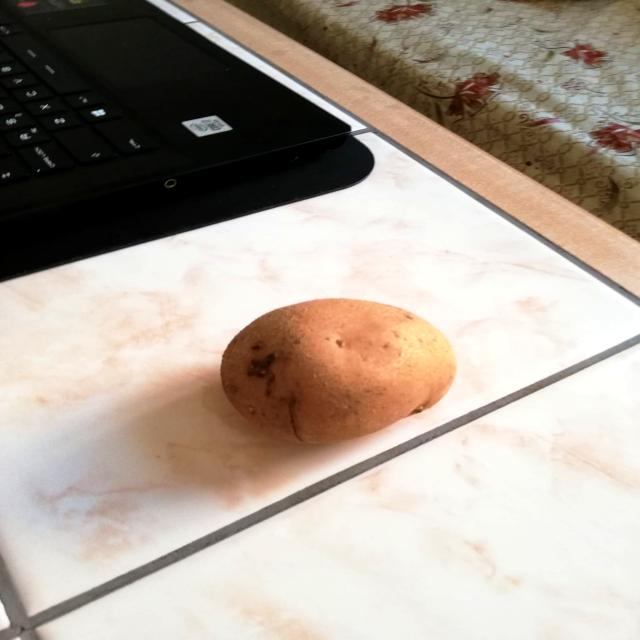potato: (211, 293, 468, 449)
